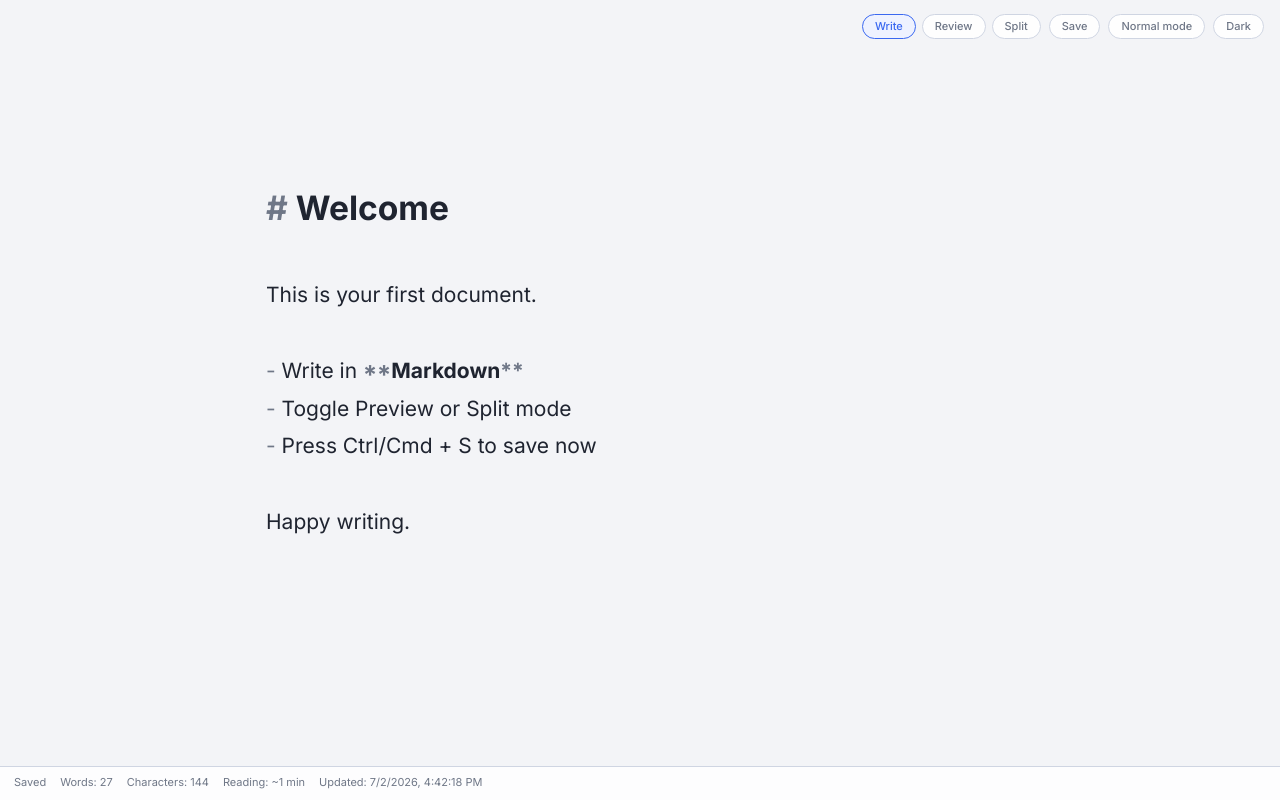
it: App — settings › toggles line numbers in the editor
Click the button "Normal mode" at (1157, 26), box [1108,14,1205,39]
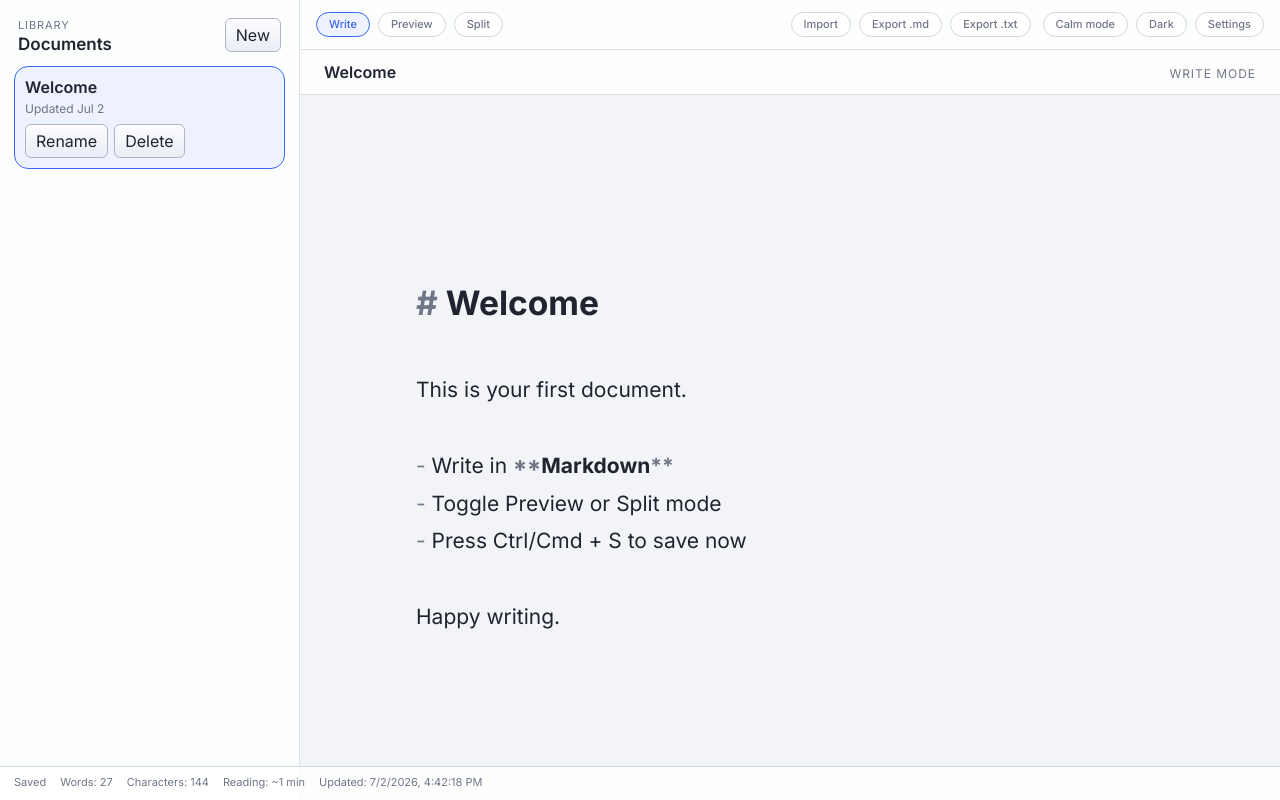
Click the button "Settings" at (1229, 24), box [1195,12,1264,37]
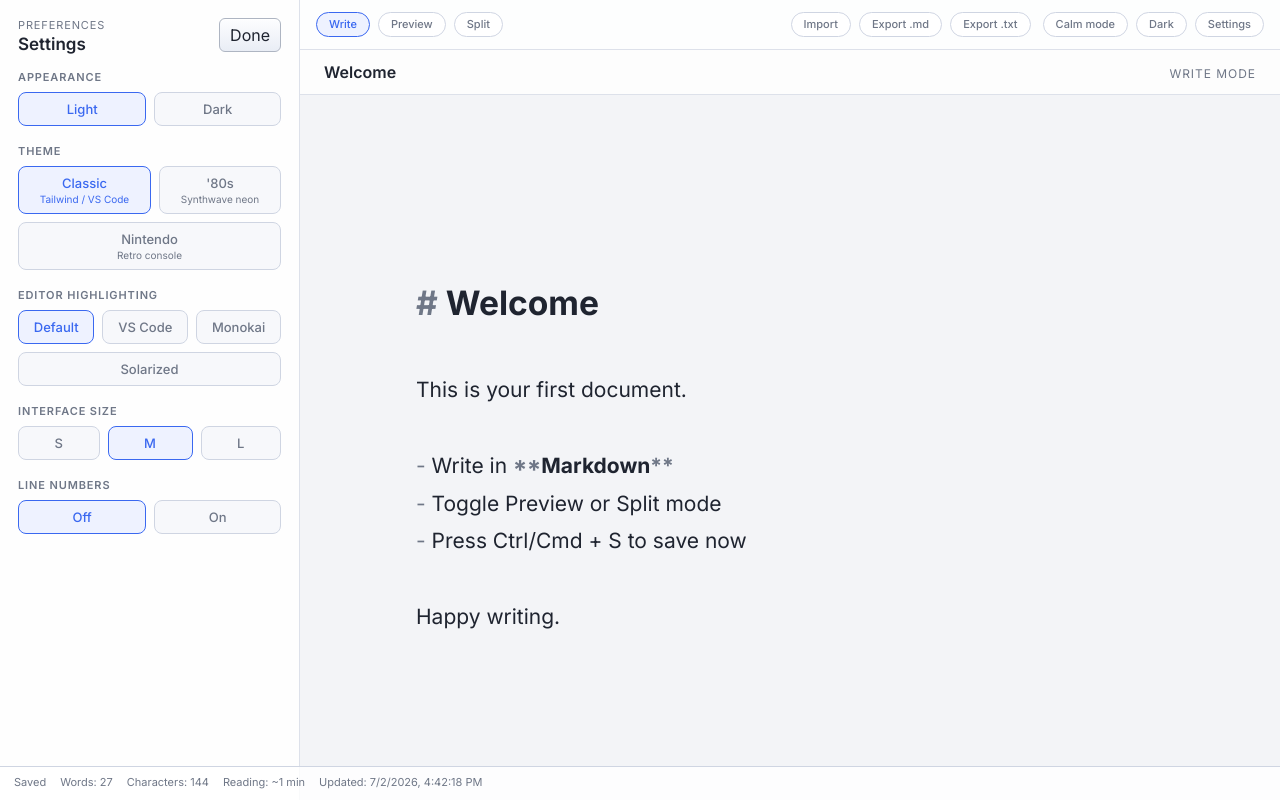
Click the button "On" at (218, 517), box [154,500,281,534]
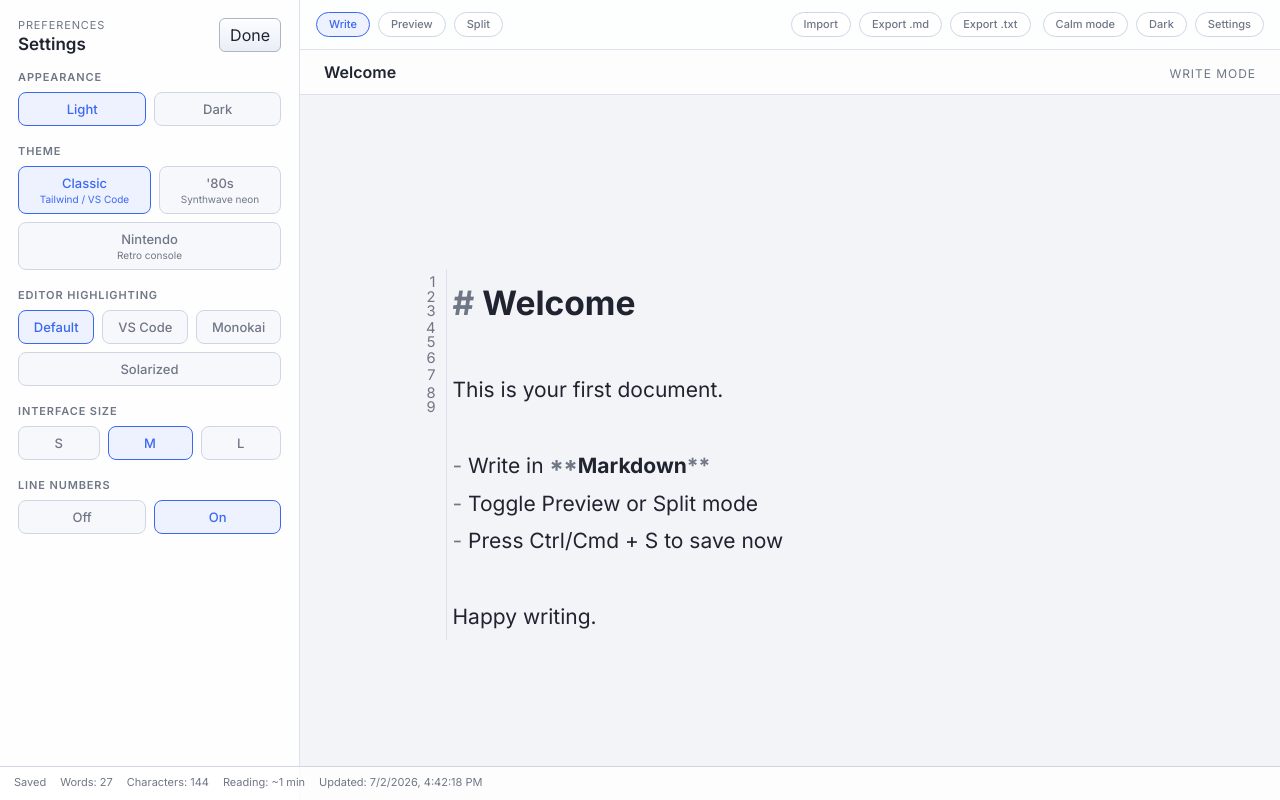
Now the element with class "cm-lineNumbers" is shown, box [426,273,436,416]
Click the button "Off" at (82, 517), box [18,500,146,534]
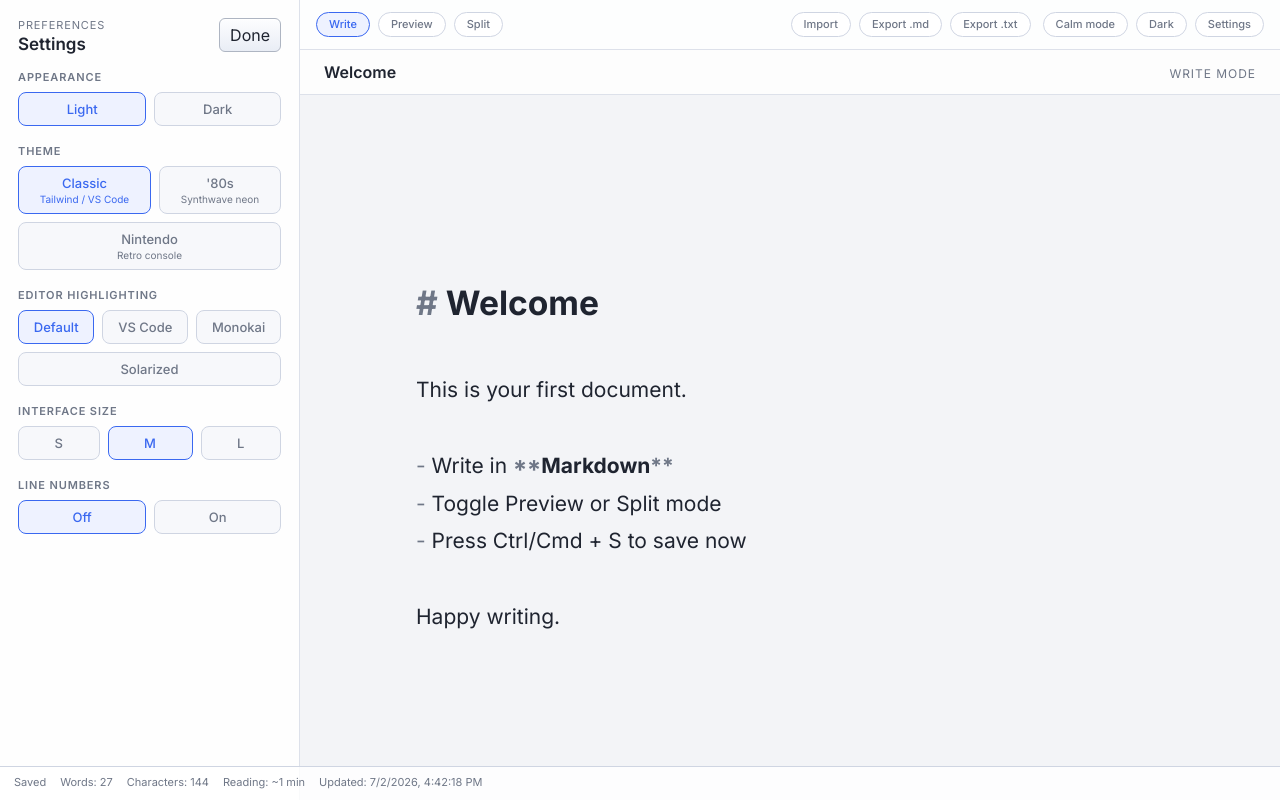
Now the element with class "cm-lineNumbers" is gone
